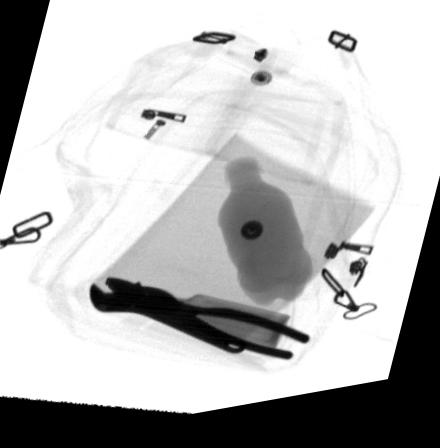Pliers: (124, 291, 311, 372)
Wrench: (88, 280, 250, 362)
